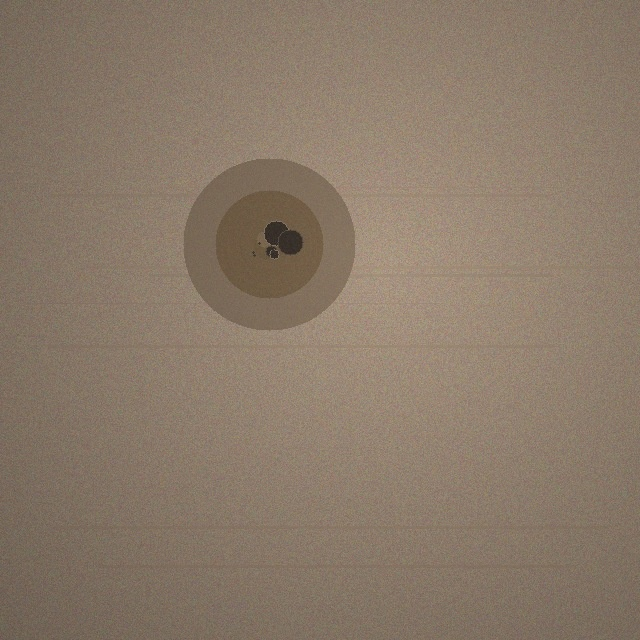shrinkage: (183, 158, 355, 330)
